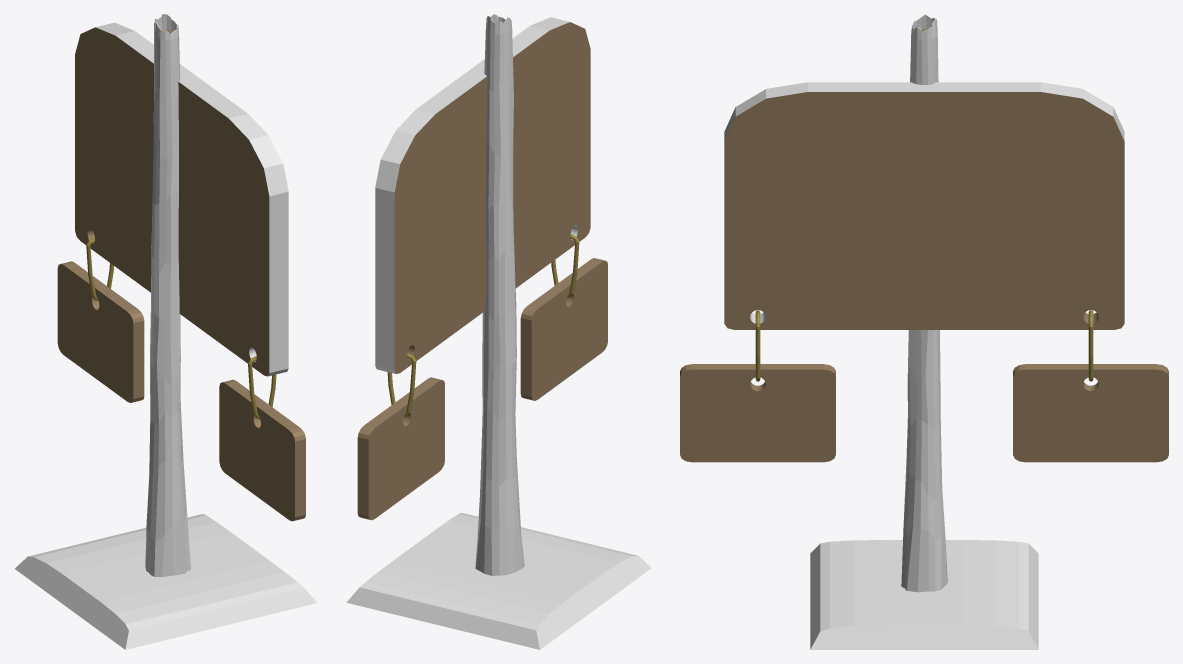
The model's file is PosteMapa.fbx.
3 renders of one model, left to right at view 1: azimuth 30°, elevation 25°; view 2: azimuth 150°, elevation 25°; view 3: azimuth 270°, elevation 25°, orthographic. The views are drawn at different scales.
Parts seen in each view (by area): view 1: Cube.001, Cube, Cylinder.001, Cube.003, Cube.002, Torus, Torus.001; view 2: Cube.001, Cube, Cylinder.001, Cube.002, Cube.003, Torus.001, Torus; view 3: Cube.001, Cube, Cube.002, Cube.003, Cylinder.001.
Part boxes in pixels (bbox=[...]): Cube.001: bbox=[75, 22, 288, 376]; Cube: bbox=[15, 514, 316, 649]; Cylinder.001: bbox=[145, 14, 190, 576]; Cube.003: bbox=[57, 261, 144, 402]; Cube.002: bbox=[219, 379, 305, 521]; Torus: bbox=[248, 356, 276, 419]; Torus.001: bbox=[86, 237, 114, 300]; Cube.001: bbox=[375, 17, 590, 373]; Cube: bbox=[346, 512, 651, 649]; Cylinder.001: bbox=[475, 14, 524, 575]; Cube.002: bbox=[520, 258, 607, 400]; Cube.003: bbox=[357, 377, 444, 520]; Torus.001: bbox=[387, 353, 416, 417]; Torus: bbox=[551, 234, 579, 297]; Cube.001: bbox=[724, 82, 1124, 329]; Cube: bbox=[810, 540, 1038, 649]; Cube.002: bbox=[680, 364, 835, 462]; Cube.003: bbox=[1013, 364, 1168, 462]; Cylinder.001: bbox=[901, 14, 947, 592].
Bounding box in the file's own units: 392 × 1106 × 839.
